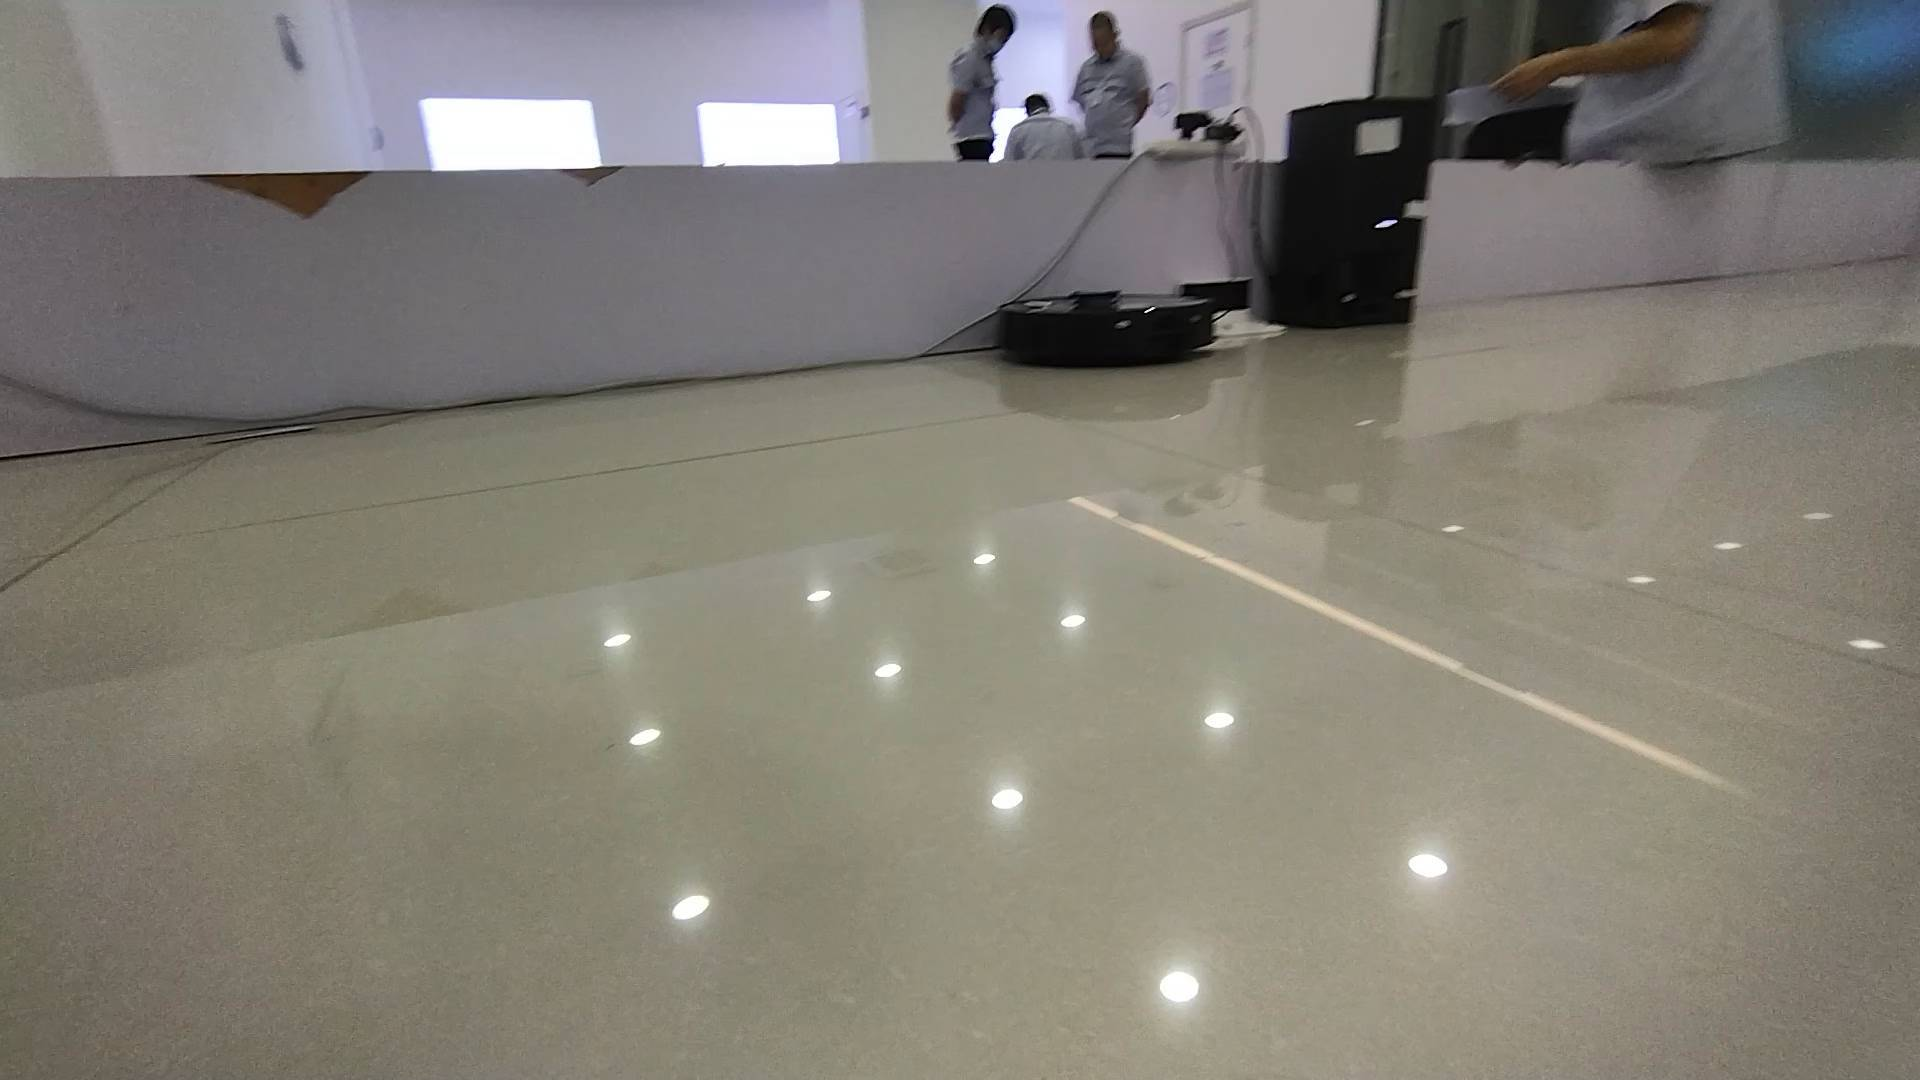dust collecting barrel: (1280, 98, 1425, 328)
recharge seat: (1178, 276, 1276, 332)
